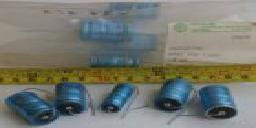Electrolytic-Capacitor: (157, 76, 198, 128), (99, 82, 144, 128), (53, 79, 96, 126), (199, 79, 238, 121)
